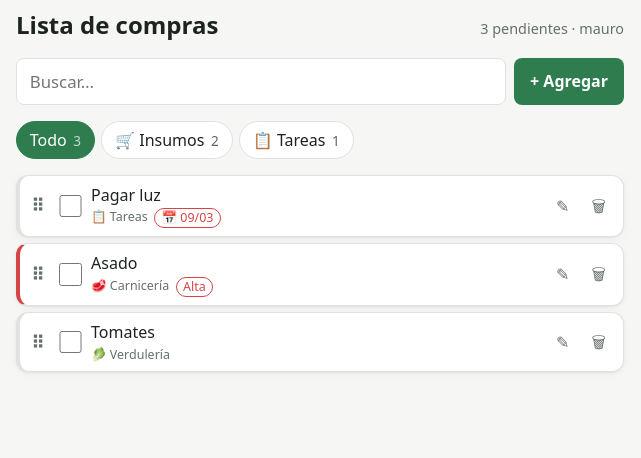
Test: App › si el servidor no puede marcar, el ítem vuelve a su lugar con el aviso
Check: the text "Asado" is shown, box 91,252 -> 137,274
What coordinates should you click on to do the following:
click the checkbox named "Marcar Pagar luz como hecho"
I would click on:
 (70, 206)
Its box is 59,195 -> 82,217.
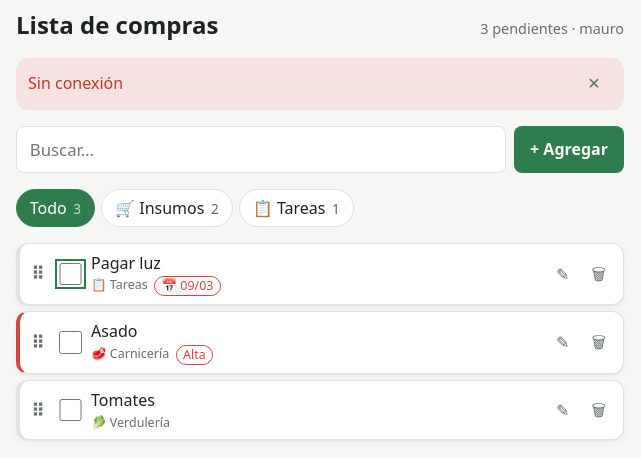
Check: the checkbox named "Marcar Pagar luz como hecho" is not checked, box 59,263 -> 82,285
Check: the message shows "Sin conexión", box 28,72 -> 123,94
